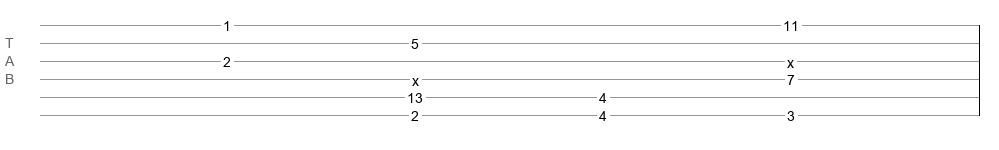1: (223, 18, 231, 28)
11: (783, 18, 799, 28)
13: (407, 90, 423, 100)
2: (223, 54, 231, 64), (411, 108, 419, 118)
3: (787, 108, 795, 118)
4: (599, 90, 607, 100), (599, 108, 607, 118)
5: (411, 36, 419, 46)
7: (787, 72, 795, 82)
x: (412, 73, 419, 81), (787, 55, 794, 63)
